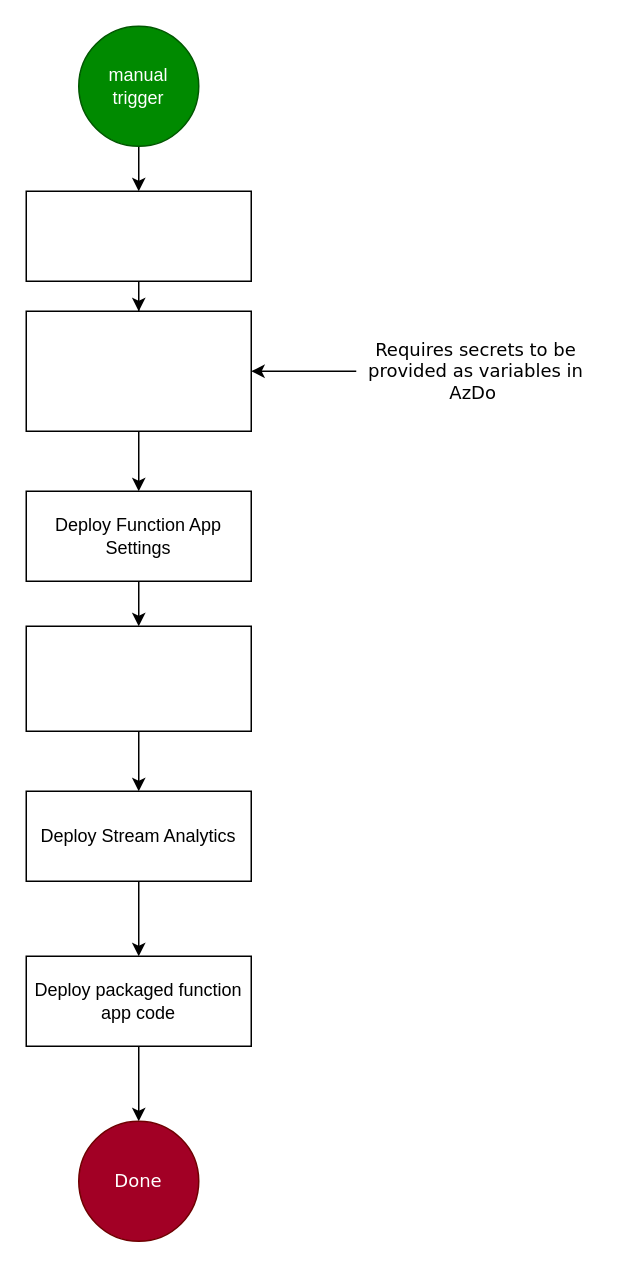
Some shapes in this 623 by 1268 pixel diagram are drawn without their labels. Each missing label, with the centre of its shape:
"Deploy External Secrets" belongs at (138,370).
"Deploy Foundational Resources" belongs at (138,235).
"Deploy Work Order Ack Logic App" belongs at (138,678).
